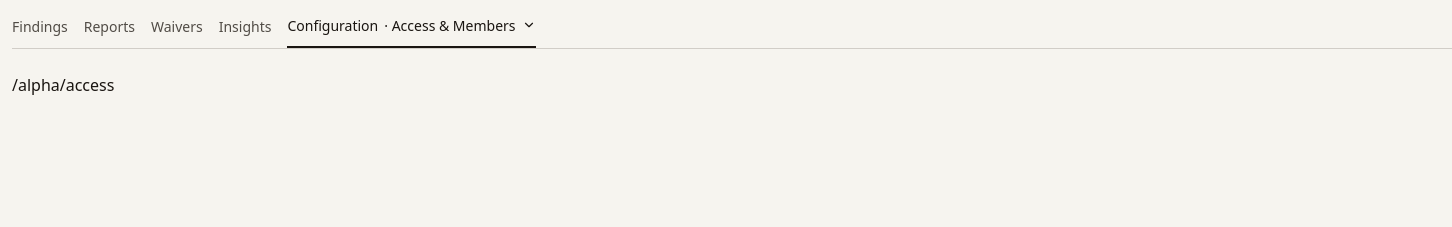
Scenario: project navigation › keeps the active access page discoverable with the menu closed
The image size is (1452, 227).
Expected: the button "Configuration" does not show "Configuration"
Click the button "Configuration · Access & Members" at (411, 30), box [287,12,536,48]
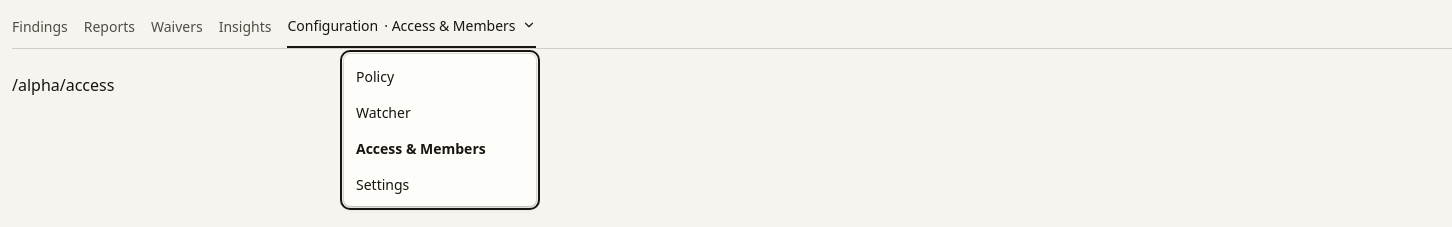
Expected: the menu is shown, [344,54,536,206]
